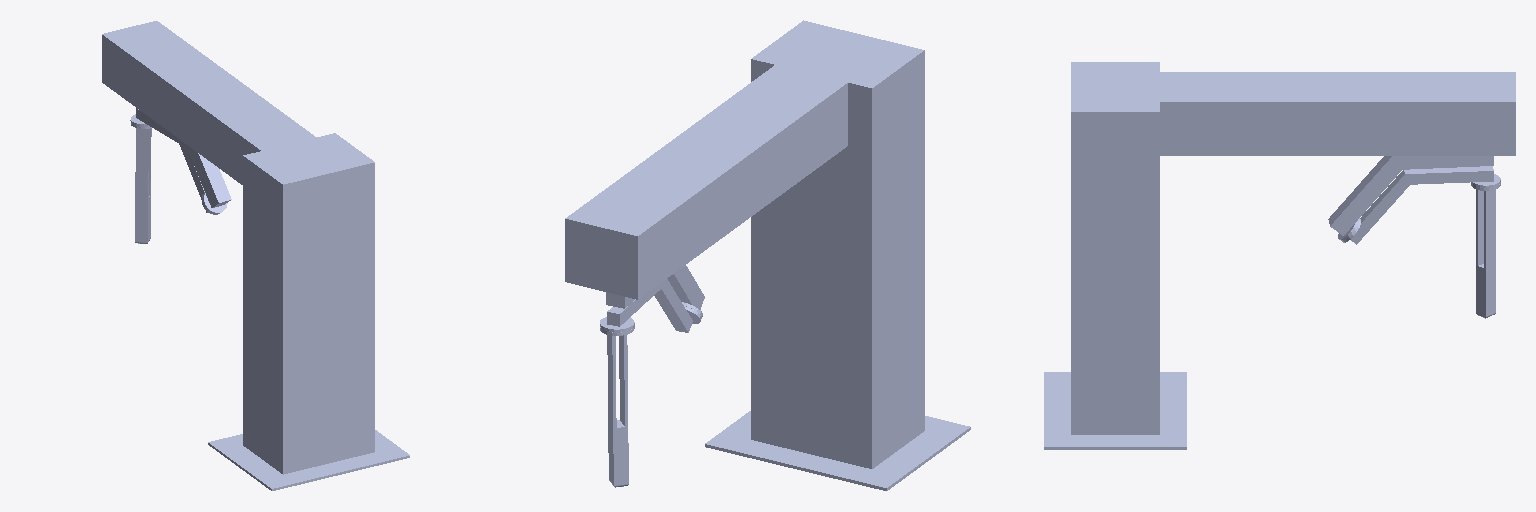
URDF robot description (urdf):
<?xml version="1.0" encoding="utf-8"?>
<!-- This URDF was automatically created by SolidWorks to URDF Exporter! Originally created by [author] ([email redacted]) 
     Commit Version: 1.6.0-4-g7f85cfe  Build Version: 1.6.7995.38578
     For more information, please see http://wiki.ros.org/sw_urdf_exporter -->
<robot
  name="urdf">
  <link
    name="base_link">
    <inertial>
      <origin
        xyz="0 0 0"
        rpy="0 0 0" />
      <mass
        value="25.57" />
      <inertia
        ixx="1.8986"
        ixy="-2.5488E-17"
        ixz="-1.6347E-17"
        iyy="0.98857"
        iyz="-0.49703"
        izz="1.0528" />
    </inertial>
    <visual>
      <origin
        xyz="0 0 0"
        rpy="0 0 0" />
      <geometry>
        <mesh
          filename="package://urdf/meshes/base_link.STL" />
      </geometry>
      <material
        name="">
        <color
          rgba="0.79216 0.81961 0.93333 1" />
      </material>
    </visual>
    <collision>
      <origin
        xyz="0 0 0"
        rpy="0 0 0" />
      <geometry>
        <mesh
          filename="package://urdf/meshes/base_link.STL" />
      </geometry>
    </collision>
  </link>
  <link
    name="Empty_Link2">
    <inertial>
      <origin
        xyz="0.13438 0.11452 -4.198E-16"
        rpy="0 0 0" />
      <mass
        value="0.31213" />
      <inertia
        ixx="0.00062851"
        ixy="0.00091576"
        ixz="3.9641E-18"
        iyy="0.0020652"
        iyz="-1.7754E-18"
        izz="0.0026437" />
    </inertial>
    <visual>
      <origin
        xyz="0 0 0"
        rpy="0 0 0" />
      <geometry>
        <mesh
          filename="package://urdf/meshes/Empty_Link2.STL" />
      </geometry>
      <material
        name="">
        <color
          rgba="0.79216 0.81961 0.93333 1" />
      </material>
    </visual>
    <collision>
      <origin
        xyz="0 0 0"
        rpy="0 0 0" />
      <geometry>
        <mesh
          filename="package://urdf/meshes/Empty_Link2.STL" />
      </geometry>
    </collision>
  </link>
  <joint
    name="joint_1"
    type="continuous">
    <origin
      xyz="-0.049484 0.32456 0.035262"
      rpy="1.5708 0 -1.4705" />
    <parent
      link="base_link" />
    <child
      link="Empty_Link2" />
    <axis
      xyz="0 1 0" />
  </joint>
  <link
    name="Empty_Link3">
    <inertial>
      <origin
        xyz="0.054607 0.20041 2.4286E-17"
        rpy="0 0 0" />
      <mass
        value="0.13658" />
      <inertia
        ixx="0.0002079"
        ixy="0.0003368"
        ixz="3.8964E-19"
        iyy="0.00083751"
        iyz="-1.7737E-19"
        izz="0.0010315" />
    </inertial>
    <visual>
      <origin
        xyz="0 0 0"
        rpy="0 0 0" />
      <geometry>
        <mesh
          filename="package://urdf/meshes/Empty_Link3.STL" />
      </geometry>
      <material
        name="">
        <color
          rgba="0.79216 0.81961 0.93333 1" />
      </material>
    </visual>
    <collision>
      <origin
        xyz="0 0 0"
        rpy="0 0 0" />
      <geometry>
        <mesh
          filename="package://urdf/meshes/Empty_Link3.STL" />
      </geometry>
    </collision>
  </link>
  <joint
    name="Joint_2"
    type="continuous">
    <origin
      xyz="0.065189 -0.12006 0"
      rpy="-0.010124 -0.0084947 4.3001E-05" />
    <parent
      link="Empty_Link2" />
    <child
      link="Empty_Link3" />
    <axis
      xyz="0.76604 0.64279 0" />
  </joint>
  <link
    name="Empty_Link4">
    <inertial>
      <origin
        xyz="1.885E-08 0.080071 3.6481E-08"
        rpy="0 0 0" />
      <mass
        value="0.10029" />
      <inertia
        ixx="0.00063967"
        ixy="1.362E-12"
        ixz="3.5609E-13"
        iyy="1.2935E-05"
        iyz="3.2834E-12"
        izz="0.00064015" />
    </inertial>
    <visual>
      <origin
        xyz="0 0 0"
        rpy="0 0 0" />
      <geometry>
        <mesh
          filename="package://urdf/meshes/Empty_Link4.STL" />
      </geometry>
      <material
        name="">
        <color
          rgba="0.79216 0.81961 0.93333 1" />
      </material>
    </visual>
    <collision>
      <origin
        xyz="0 0 0"
        rpy="0 0 0" />
      <geometry>
        <mesh
          filename="package://urdf/meshes/Empty_Link4.STL" />
      </geometry>
    </collision>
  </link>
  <joint
    name="joint_3"
    type="continuous">
    <origin
      xyz="-0.065189 0 0"
      rpy="0 -0.84544 0" />
    <parent
      link="Empty_Link3" />
    <child
      link="Empty_Link4" />
    <axis
      xyz="0 1 0" />
  </joint>
</robot>

--- Facts derived from the render (not from the file) ---
3 views of the same robot in one strip: view 1: azimuth 30°, elevation 25°; view 2: azimuth 150°, elevation 25°; view 3: azimuth 270°, elevation 25° (orthographic).
Model urdf with 4 links and 3 joints (3 continuous), rooted at base_link, posed every joint at zero.
Visible links, largest first — view 1: base_link, Empty_Link4, Empty_Link2, Empty_Link3; view 2: base_link, Empty_Link4, Empty_Link3, Empty_Link2; view 3: base_link, Empty_Link2, Empty_Link3, Empty_Link4.
Boxes of the visible links, left/top/right/bottom form: base_link: left=102, top=21, right=409, bottom=490; Empty_Link4: left=131, top=123, right=151, bottom=243; Empty_Link2: left=185, top=144, right=231, bottom=213; Empty_Link3: left=130, top=108, right=221, bottom=214; base_link: left=565, top=20, right=970, bottom=490; Empty_Link4: left=600, top=326, right=634, bottom=487; Empty_Link3: left=600, top=279, right=701, bottom=332; Empty_Link2: left=606, top=265, right=704, bottom=316; base_link: left=1044, top=62, right=1515, bottom=449; Empty_Link2: left=1328, top=156, right=1493, bottom=240; Empty_Link3: left=1342, top=166, right=1500, bottom=244; Empty_Link4: left=1471, top=183, right=1500, bottom=318.
Size in the robot's own frame: 0.3 by 0.795 by 0.605 metres.
4 mesh visuals loaded from 4 distinct referenced files (4 binary STL).